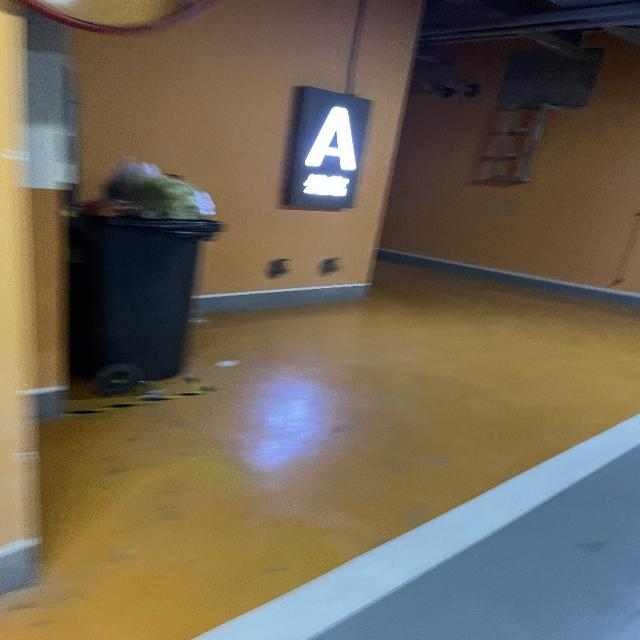overflow: (69, 158, 227, 379)
